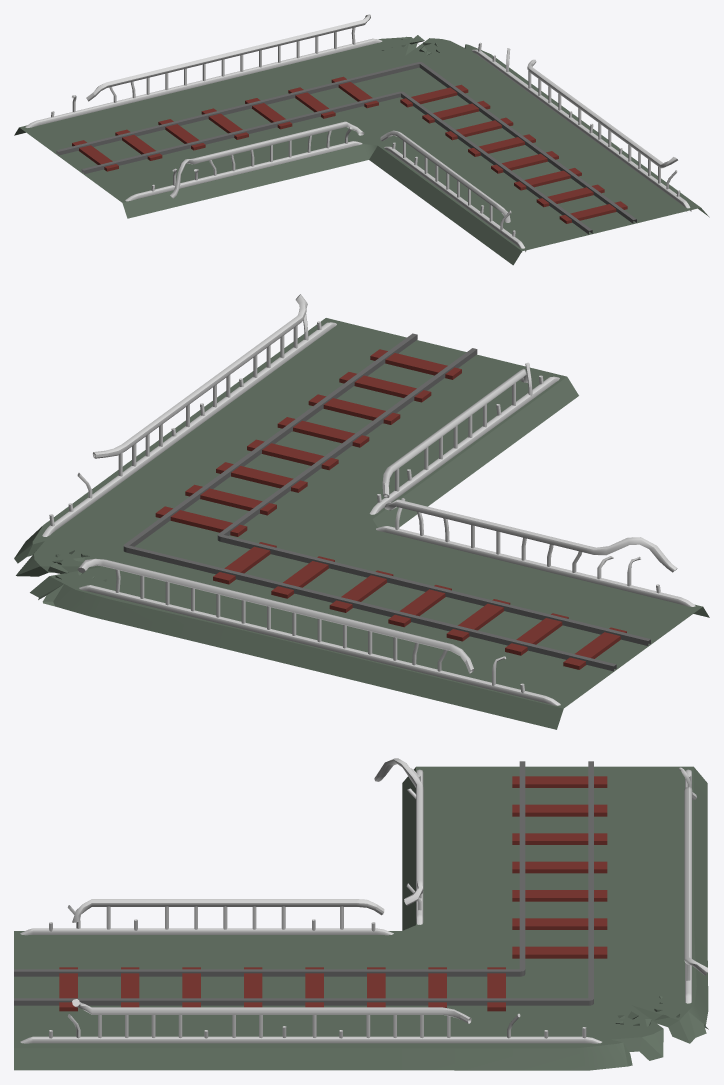
File: F_TurnRightt_01.fbx
3 views of the same model, one above another, from view 1: azimuth 30°, elevation 25°; view 2: azimuth 150°, elevation 25°; view 3: azimuth 270°, elevation 25° (orthographic). The views are drawn at different scales.
Visible parts, largest first — view 1: pCube381; view 2: pCube381; view 3: pCube381.
Part boxes in pixels (x1,y1,x2,y2): pCube381: (14, 14, 709, 265); pCube381: (14, 294, 709, 729); pCube381: (14, 758, 708, 1070).
Size of the model in its own units: 123 by 12.9 by 125.
